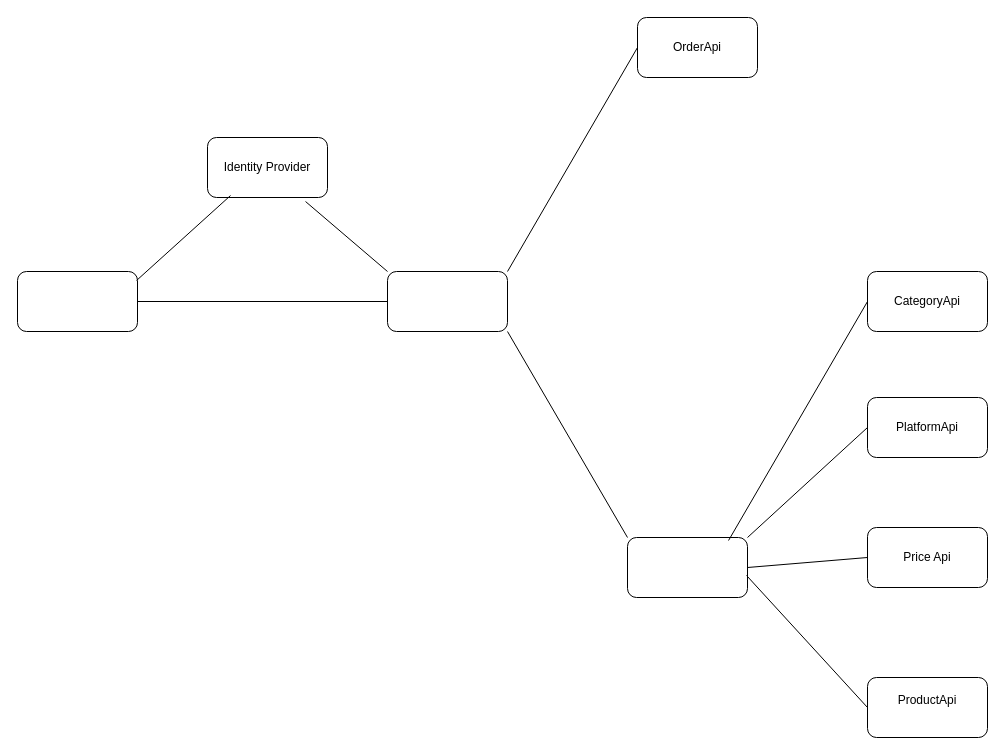
Image size: 1005x755. Some labels were removed from this diagram. The centre of each missing label's shape, as x and y in pixels:
"AggregateProductApi" belongs at (x=687, y=567).
"Api Gateway" belongs at (x=447, y=301).
"App React" belongs at (x=77, y=301).
